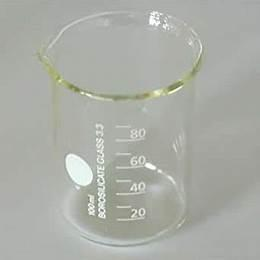Beaker: (35, 6, 210, 241)
